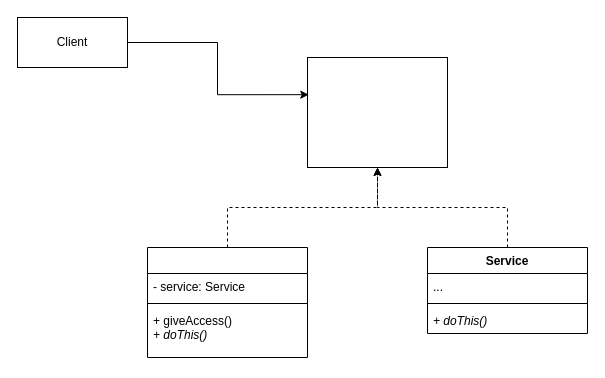
The diagram is 605 pixels wide and 378 high, and some of its shapes have lost their labels. The shapes that lost their labels are listed below. From the top down, each one's box as (x1, y1, x2, y2) in pixels, then its label:
(306, 56, 448, 168): <<Interface>> Service ... + doThis()
(146, 246, 308, 358): Proxy
